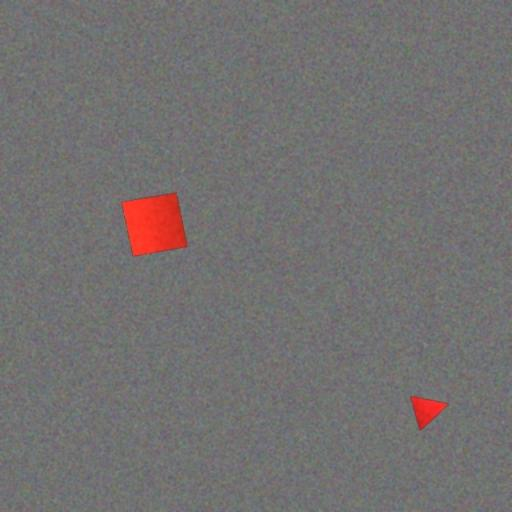RED_SQUARE: (121, 192, 189, 258)
